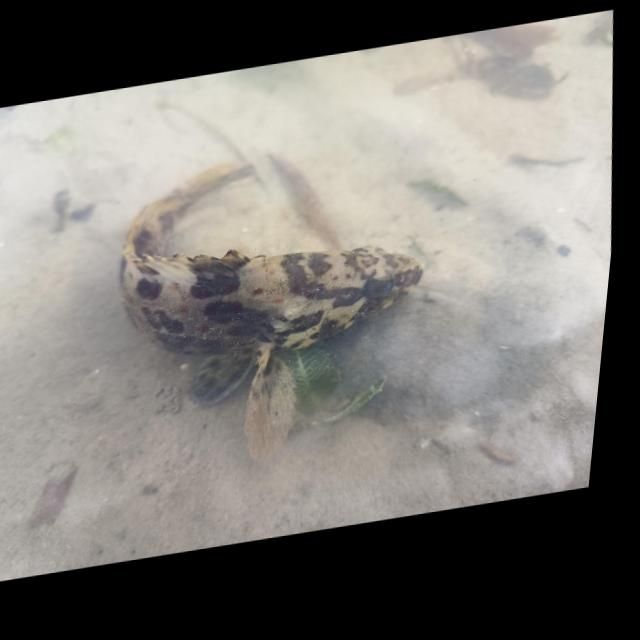Groupers: (85, 124, 451, 485)
